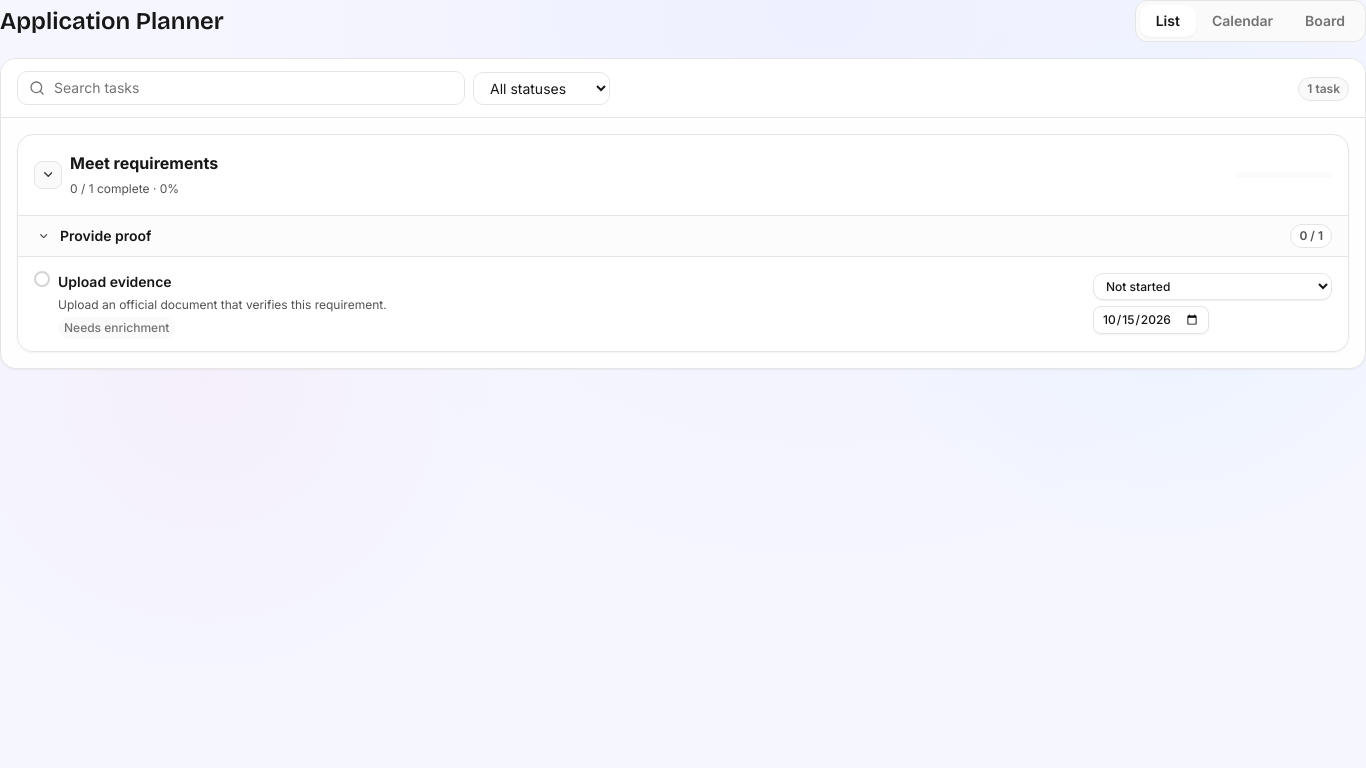
HierarchicalApplicationPlanner › places a scheduled micro-step inside its deadline day cell
Click the tab "Calendar" at [1242, 21], box [1196,5,1289,37]
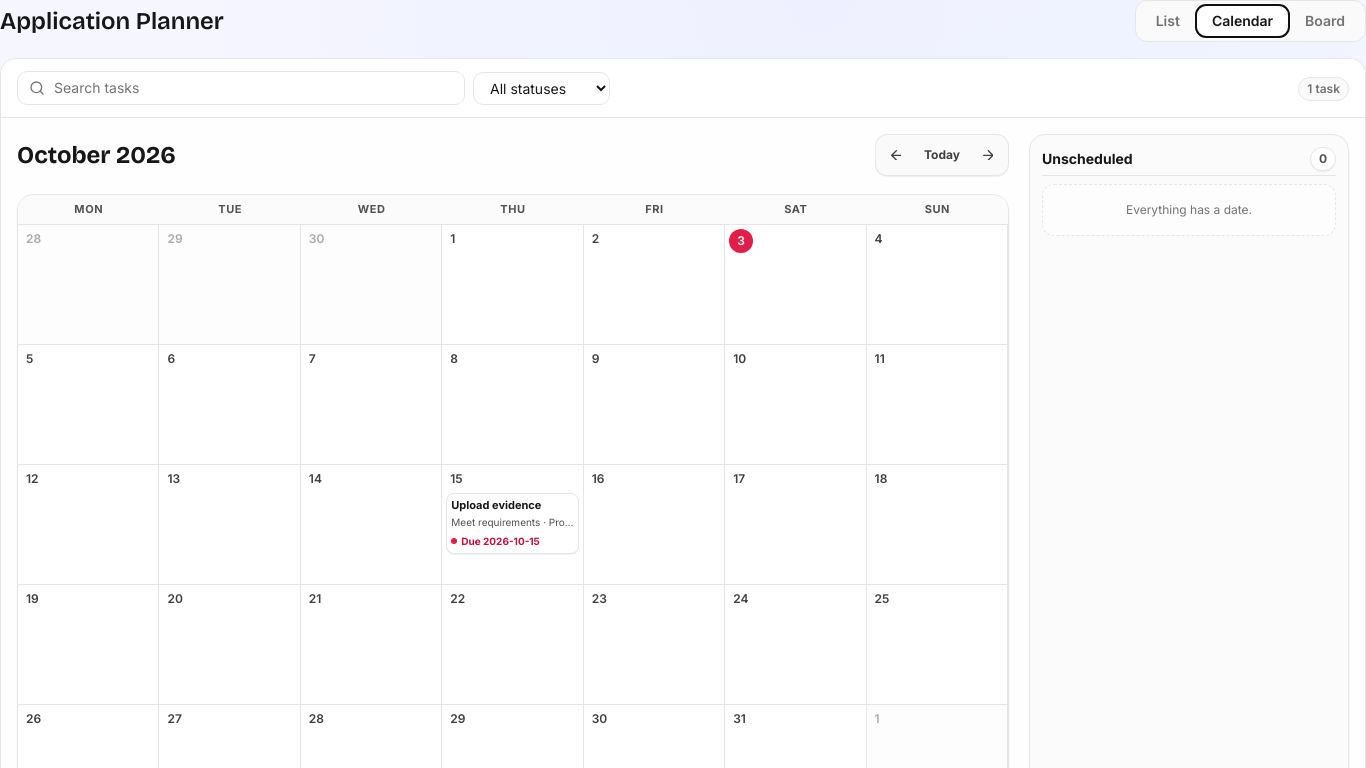
Check: the link "Upload evidence" is shown, box [451,498,541,512]
Check: the heading "Unscheduled" is shown, box [1042,149,1133,169]
Check: the text "Everything has a date." is shown, box [1042,184,1336,236]
